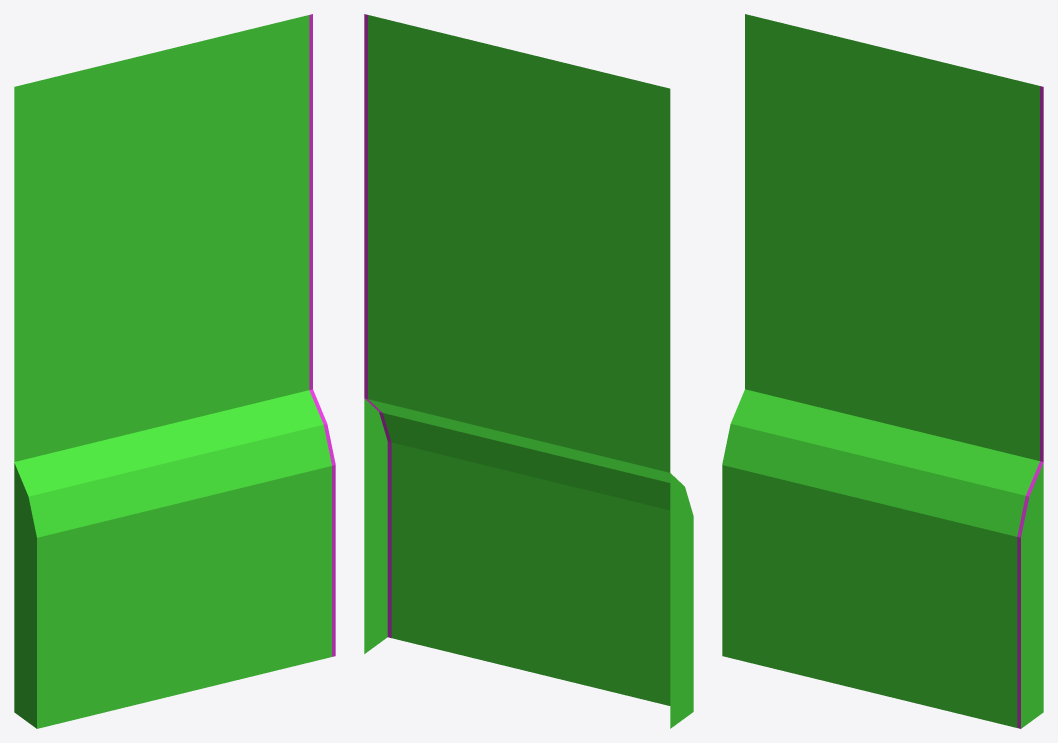
The model's file is Wall_43_E_Straight.fbx.
The picture shows the model from 3 angles, left to right: view 1: azimuth 30°, elevation 25°; view 2: azimuth 150°, elevation 25°; view 3: azimuth 330°, elevation 25°; orthographic projection. The views are drawn at different scales.
Parts seen in each view (by area): view 1: Wall_43_E_Straight; view 2: Wall_43_E_Straight; view 3: Wall_43_E_Straight.
Boxes of the visible parts, x1,y1,x2,y2 form: Wall_43_E_Straight: (14,14,335,728); Wall_43_E_Straight: (364,14,693,728); Wall_43_E_Straight: (722,14,1043,728).
Bounding box in the file's own units: 229 × 457 × 30.28.
